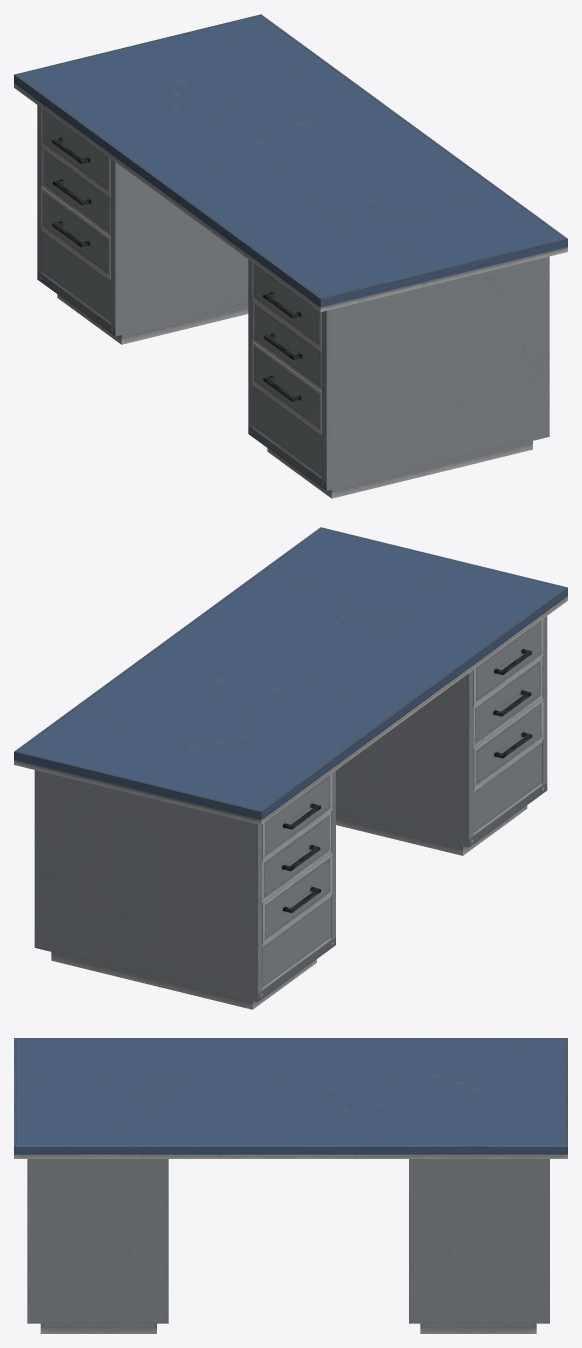
Rendered from HH_Desk_Doctor.fbx.
3 views of the same model, one above another, from view 1: azimuth 30°, elevation 25°; view 2: azimuth 150°, elevation 25°; view 3: azimuth 270°, elevation 25° (orthographic). The views are drawn at different scales.
Parts seen in each view (by area): view 1: HH_Desk_Doctor, HH_Desk_Doctor_Box_01, HH_Desk_Doctor_Box_02; view 2: HH_Desk_Doctor, HH_Desk_Doctor_Box_01, HH_Desk_Doctor_Box_02; view 3: HH_Desk_Doctor.
Boxes of the visible parts, x1,y1,x2,y2 form: HH_Desk_Doctor: [14, 14, 567, 498]; HH_Desk_Doctor_Box_01: [41, 108, 110, 195]; HH_Desk_Doctor_Box_02: [252, 262, 321, 349]; HH_Desk_Doctor: [14, 527, 567, 1009]; HH_Desk_Doctor_Box_01: [262, 773, 332, 861]; HH_Desk_Doctor_Box_02: [473, 619, 543, 706]; HH_Desk_Doctor: [14, 1038, 567, 1333].
Bounding box in the file's own units: 93.1 × 78 × 200.
